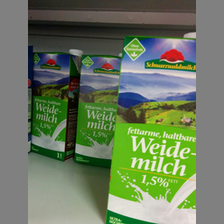milk: (107, 29, 198, 224), (32, 47, 79, 164), (77, 47, 119, 169)
